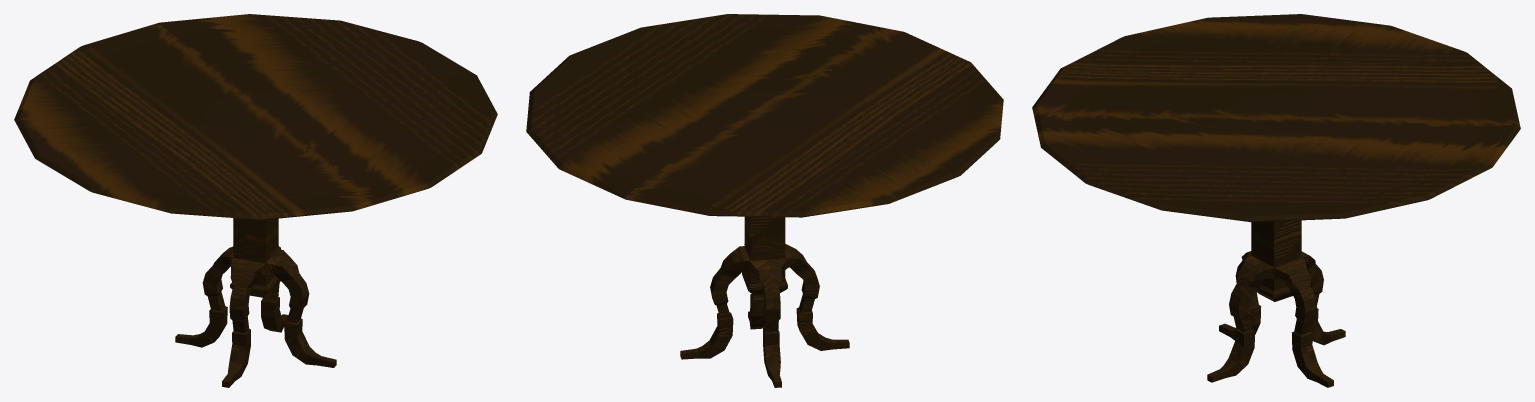
The model's file is MESH_RoundTable.fbx.
The picture shows the model from 3 angles, left to right: view 1: azimuth 30°, elevation 25°; view 2: azimuth 150°, elevation 25°; view 3: azimuth 270°, elevation 25°; orthographic projection.
Visible parts, largest first — view 1: Round_Table; view 2: Round_Table; view 3: Round_Table.
Boxes of the visible parts, left/top/right/bottom form: Round_Table: left=14, top=14, right=497, bottom=387; Round_Table: left=526, top=14, right=1003, bottom=387; Round_Table: left=1032, top=14, right=1520, bottom=387.
Bounding box in the file's own units: 140 × 76.96 × 140.
